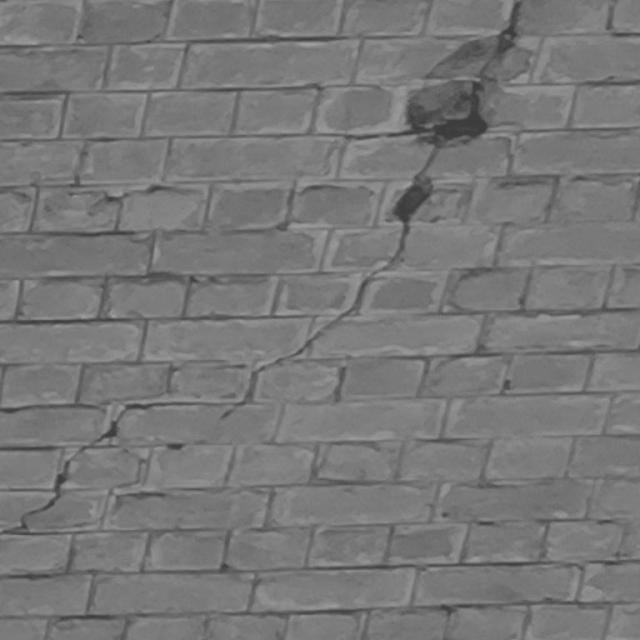crack: (217, 1, 535, 423), (1, 404, 151, 534)
